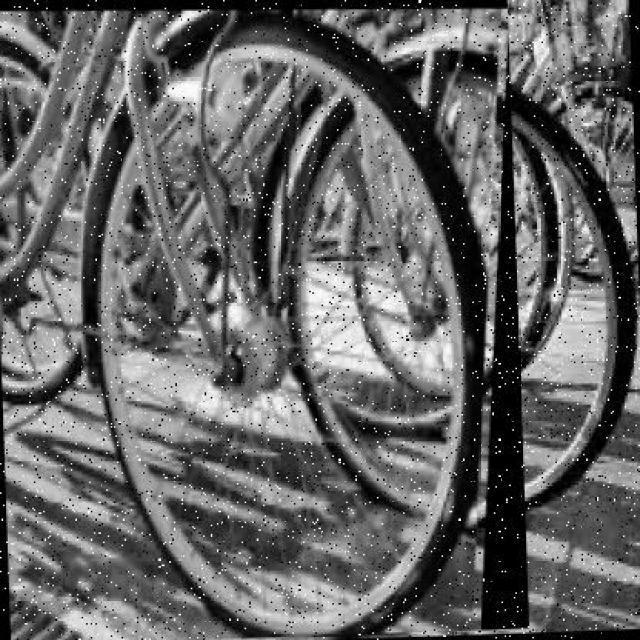bicycle: (1, 1, 533, 639)
